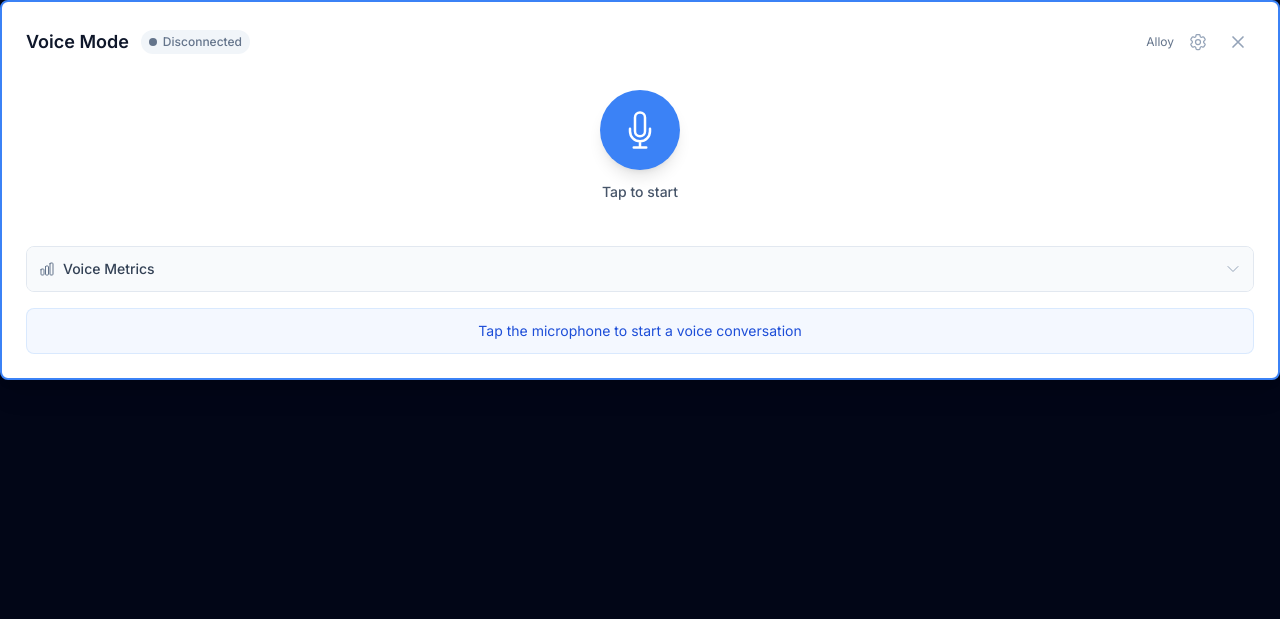
Test case: VoiceModePanel - Metrics Integration › metrics display › should still show metrics after disconnection if metrics were collected
This screenshot has width=1280, height=619.
Expand and verify
Click the button "Voice Metrics". click: click(109, 268)
box: [27,247,1253,291]
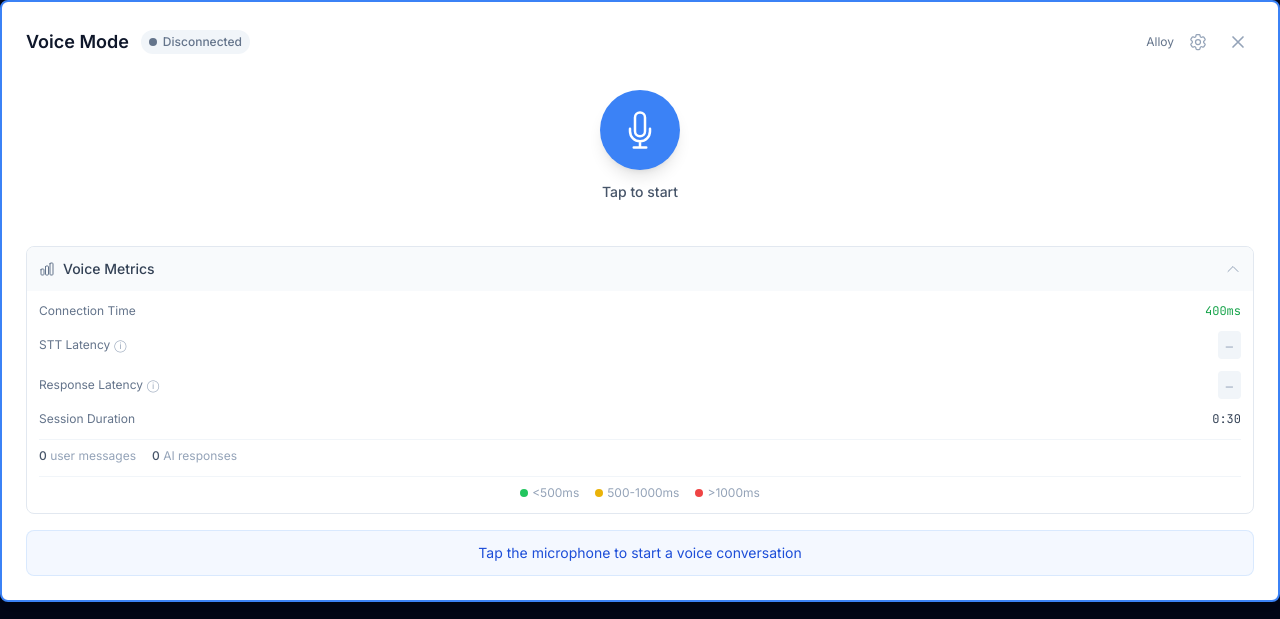
Check: the text with test id "metric-session-duration" reads "0:30", box [1212,411,1241,427]
